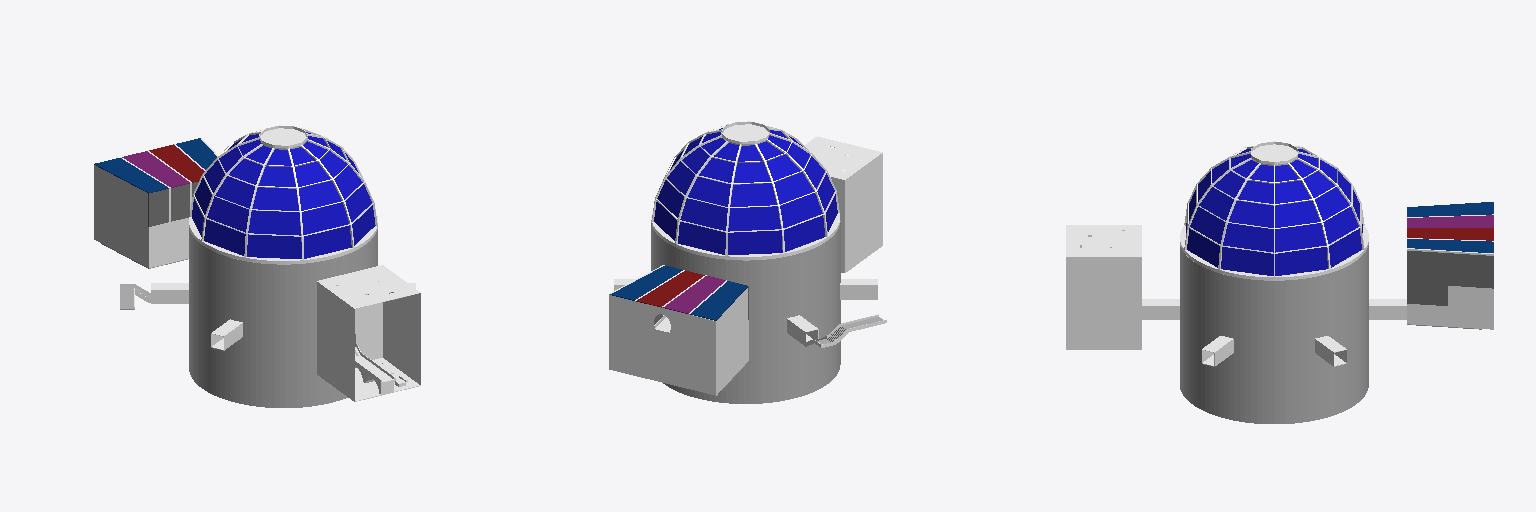
The model's file is 200605_graduation_studio.obj.
3 views of the same model, side by side, from view 1: azimuth 30°, elevation 25°; view 2: azimuth 150°, elevation 25°; view 3: azimuth 270°, elevation 25° (orthographic).
Parts seen in each view (by area): view 1: Mesh9 walls mainhall Model, Mesh160 Group45 Model, Mesh159 Group44 Model, Mesh161 Group46 Model, Mesh119 Group8 room1 Model, Mesh122 Group11 room1 Model, Mesh131 Group19 room1 Model, Mesh148 Group36 Group34 room1 Model, Mesh158 Group43 Model, Mesh10 dome_base dome_roof Model, Mesh74 glass_5_6 glass_section7 dome_glass dome_roof Model, Mesh73 glass_4_6 glass_section7 dome_glass dome_roof Model (+20 smaller); view 2: Mesh9 walls mainhall Model, Mesh128 Group16 room1 Model, Mesh160 Group45 Model, Mesh130 Group18 room1 Model, Mesh161 Group46 Model, Mesh119 Group8 room1 Model, Mesh10 dome_base dome_roof Model, Mesh54 glass_5_4 glass_section10 dome_glass dome_roof Model, Mesh53 glass_4_4 glass_section10 dome_glass dome_roof Model, Mesh131 Group19 room1 Model, Mesh44 glass_5_3 glass_section1 dome_glass dome_roof Model, Mesh43 glass_4_3 glass_section1 dome_glass dome_roof Model (+17 smaller); view 3: Mesh9 walls mainhall Model, Mesh159 Group44 Model, Mesh161 Group46 Model, Mesh129 Group17 room1 Model, Mesh149 glass1 Group34 room1 Model, Mesh147 Group35 Group34 room1 Model, Mesh10 dome_base dome_roof Model, Mesh24 glass_5_1 glass_section3 dome_glass dome_roof Model, Mesh94 glass_5_8 glass_section4 dome_glass dome_roof Model, Mesh93 glass_4_8 glass_section4 dome_glass dome_roof Model, Mesh23 glass_4_1 glass_section3 dome_glass dome_roof Model, Mesh136 Group24 Group20 room1 Model (+18 smaller).
Boxes of the visible parts, box(x1,y1,x2,y2) form: Mesh9 walls mainhall Model: box(189, 228, 377, 407); Mesh160 Group45 Model: box(317, 282, 354, 401); Mesh159 Group44 Model: box(383, 292, 420, 384); Mesh161 Group46 Model: box(317, 265, 420, 308); Mesh119 Group8 room1 Model: box(94, 199, 141, 264); Mesh122 Group11 room1 Model: box(142, 218, 188, 267); Mesh131 Group19 room1 Model: box(94, 165, 147, 226); Mesh148 Group36 Group34 room1 Model: box(148, 182, 197, 226); Mesh158 Group43 Model: box(336, 281, 382, 359); Mesh10 dome_base dome_roof Model: box(189, 214, 377, 264); Mesh74 glass_5_6 glass_section7 dome_glass dome_roof Model: box(247, 234, 301, 258); Mesh73 glass_4_6 glass_section7 dome_glass dome_roof Model: box(248, 210, 300, 235); Mesh9 walls mainhall Model: box(651, 221, 840, 403); Mesh128 Group16 room1 Model: box(609, 329, 706, 392); Mesh160 Group45 Model: box(845, 153, 882, 272); Mesh130 Group18 room1 Model: box(609, 295, 715, 353); Mesh161 Group46 Model: box(804, 136, 882, 179); Mesh119 Group8 room1 Model: box(707, 325, 743, 395); Mesh10 dome_base dome_roof Model: box(651, 211, 839, 260); Mesh54 glass_5_4 glass_section10 dome_glass dome_roof Model: box(728, 230, 782, 254); Mesh53 glass_4_4 glass_section10 dome_glass dome_roof Model: box(728, 206, 780, 231); Mesh131 Group19 room1 Model: box(716, 288, 747, 353); Mesh44 glass_5_3 glass_section1 dome_glass dome_roof Model: box(678, 222, 725, 254); Mesh43 glass_4_3 glass_section1 dome_glass dome_roof Model: box(680, 198, 727, 230); Mesh9 walls mainhall Model: box(1180, 245, 1368, 423); Mesh159 Group44 Model: box(1066, 257, 1141, 349); Mesh161 Group46 Model: box(1066, 225, 1141, 256); Mesh129 Group17 room1 Model: box(1407, 286, 1481, 328); Mesh149 glass1 Group34 room1 Model: box(1407, 251, 1447, 305); Mesh147 Group35 Group34 room1 Model: box(1448, 253, 1493, 288); Mesh10 dome_base dome_roof Model: box(1180, 225, 1368, 280); Mesh24 glass_5_1 glass_section3 dome_glass dome_roof Model: box(1275, 247, 1327, 275); Mesh94 glass_5_8 glass_section4 dome_glass dome_roof Model: box(1221, 247, 1273, 275); Mesh93 glass_4_8 glass_section4 dome_glass dome_roof Model: box(1223, 223, 1273, 252); Mesh23 glass_4_1 glass_section3 dome_glass dome_roof Model: box(1275, 223, 1325, 252); Mesh136 Group24 Group20 room1 Model: box(1407, 202, 1493, 216).
Size of the model in its own units: 77811 by 67848 by 113000.